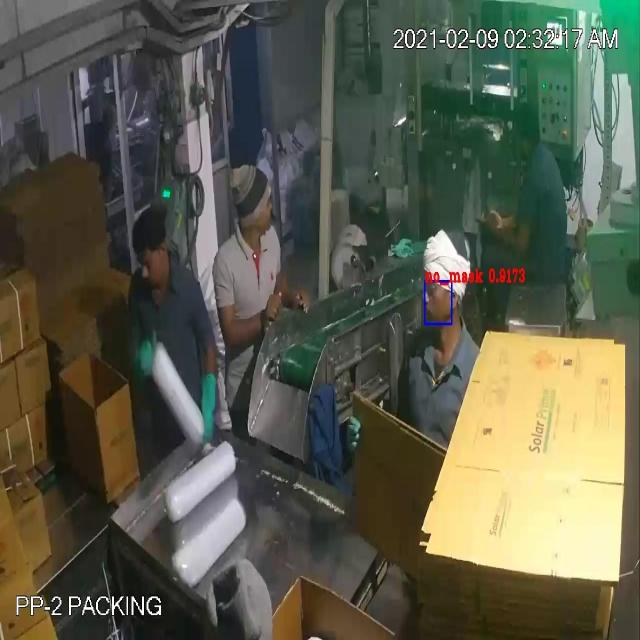gloves: (184, 338, 218, 468), (121, 330, 161, 391)
no-gloves: (475, 198, 553, 265), (208, 284, 290, 342), (274, 255, 316, 319)
